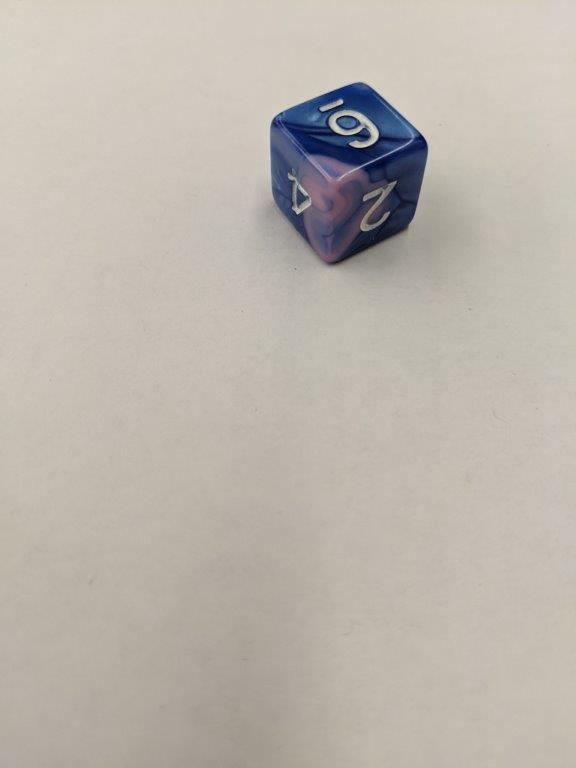d6-6: (268, 79, 431, 264)
